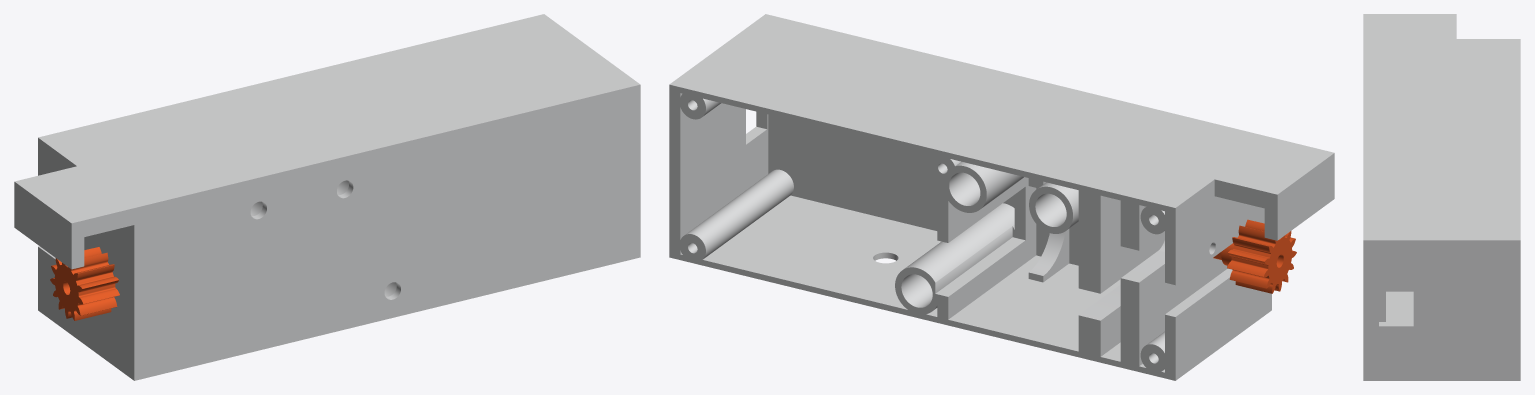
File: v2_open.glb
The picture shows the model from 3 angles, left to right: view 1: azimuth 30°, elevation 25°; view 2: azimuth 150°, elevation 25°; view 3: azimuth 270°, elevation 25°; orthographic projection. The views are drawn at different scales.
Parts seen in each view (by area): view 1: tub, pinion; view 2: tub, pinion; view 3: tub.
Boxes of the visible parts, x1,y1,x2,y2 form: tub: (14, 14, 640, 380); pinion: (50, 247, 119, 320); tub: (669, 14, 1334, 380); pinion: (1213, 219, 1296, 293); tub: (1363, 14, 1520, 380).
Bounding box in the file's own units: 0.155 × 0.045 × 0.0455.
